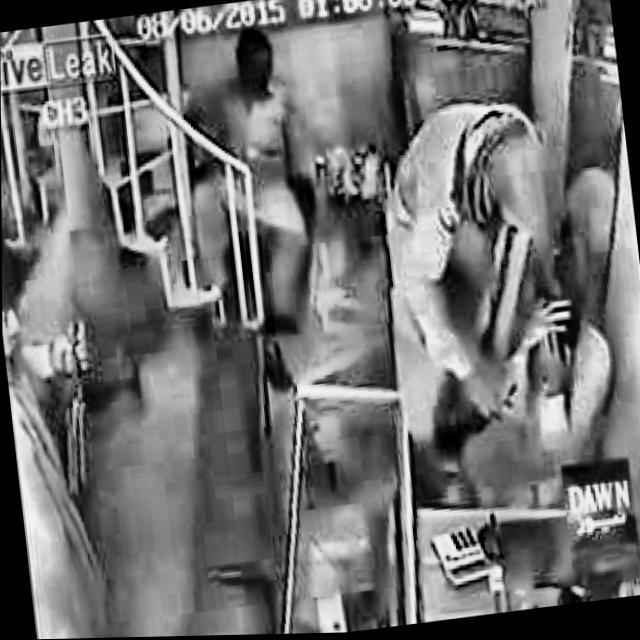Weapon: (376, 82, 640, 507), (0, 220, 191, 532), (199, 28, 333, 154)
